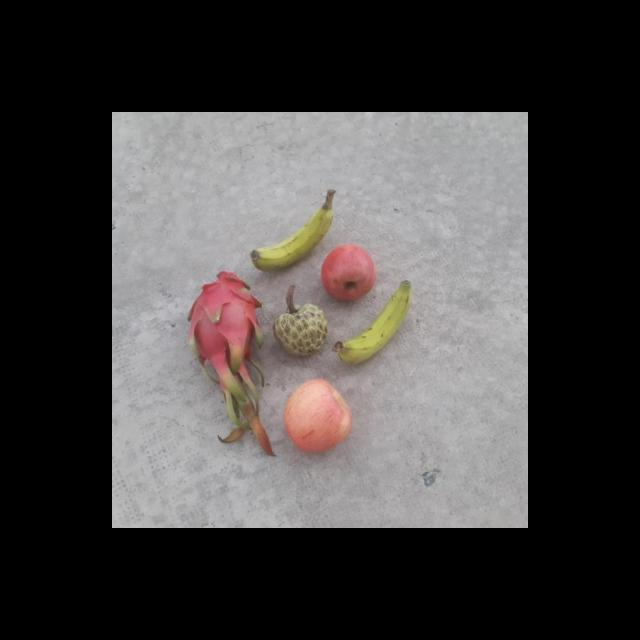Sakya fruit: (270, 302, 332, 358)
apple: (277, 376, 355, 456), (318, 246, 381, 300)
banana: (247, 182, 336, 275), (334, 277, 418, 375)
pitaya: (188, 266, 258, 354)
